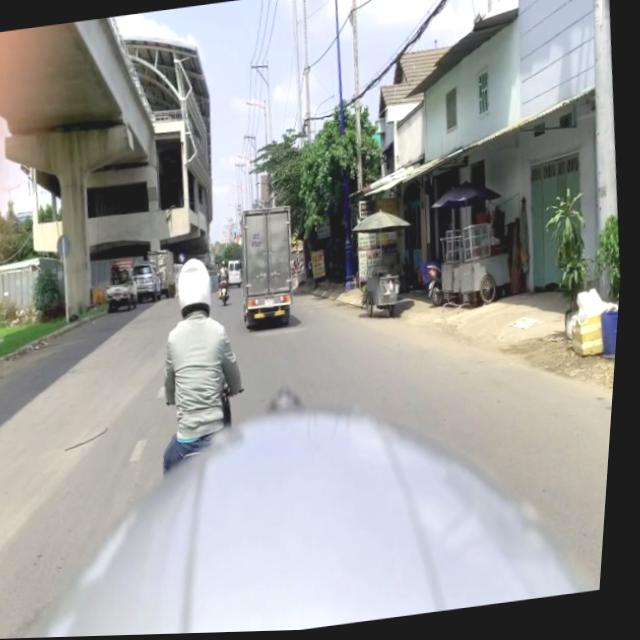Vong chuong ngai vat sang phai: (181, 253, 189, 264)
